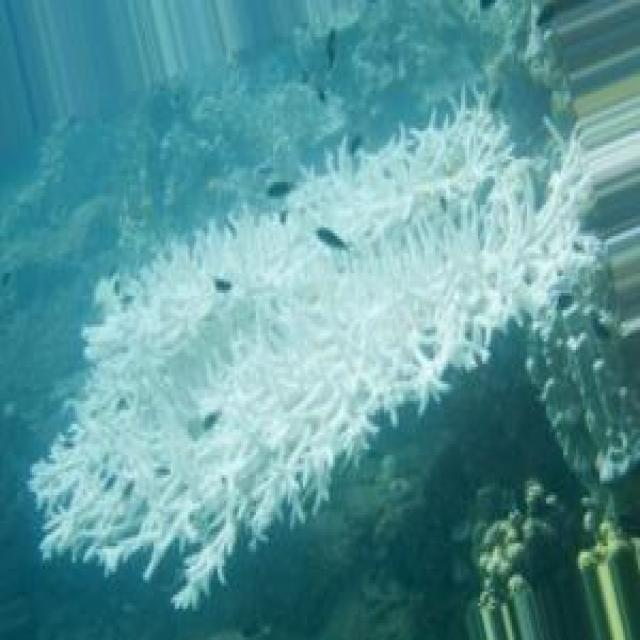bleached coral: (373, 182, 501, 282), (92, 321, 201, 421), (213, 393, 341, 466), (30, 452, 137, 526), (128, 461, 194, 572), (290, 156, 407, 213), (348, 313, 427, 393), (218, 279, 301, 350), (512, 208, 570, 290), (307, 225, 369, 296)
healthy coral: (531, 273, 634, 492), (0, 196, 119, 276), (130, 74, 220, 159), (484, 481, 565, 569), (267, 65, 346, 142), (369, 509, 435, 592)
